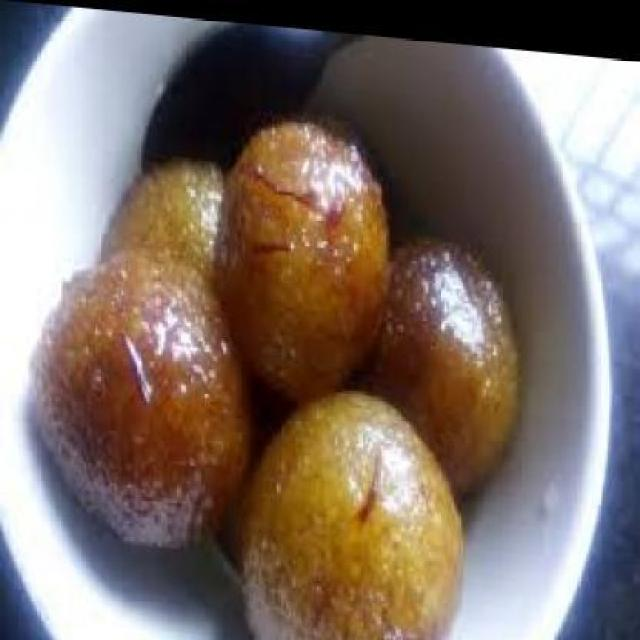gulab_jamun: (31, 238, 252, 551), (245, 377, 463, 640), (214, 110, 386, 404), (360, 225, 520, 492)
